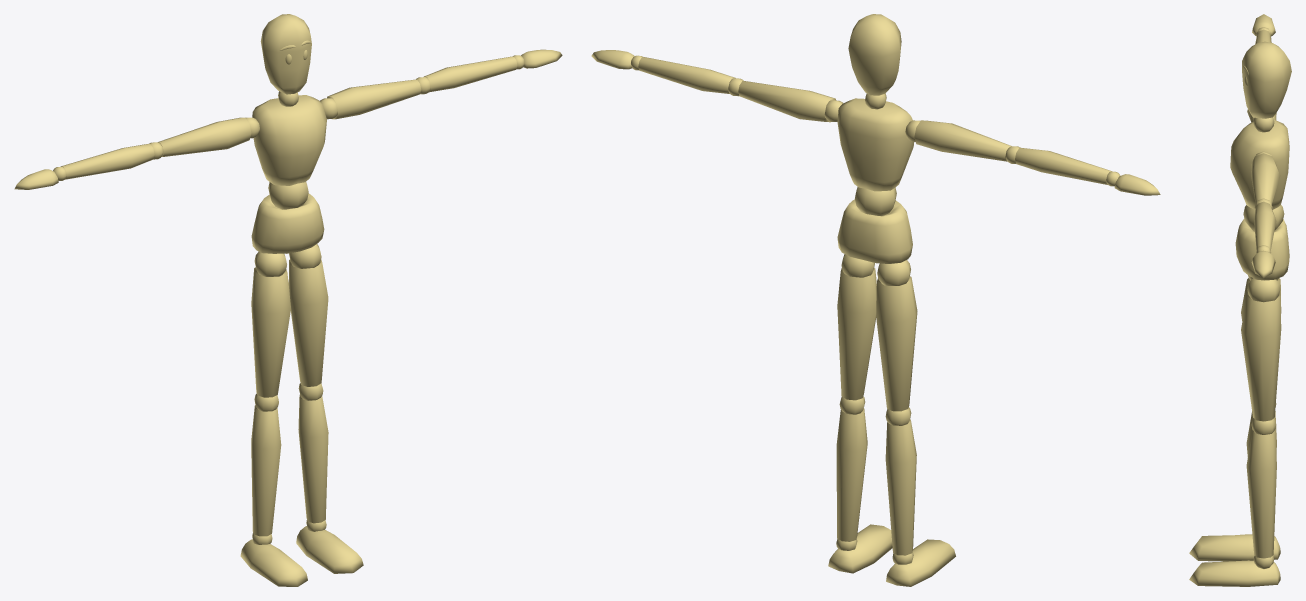
The model's file is MannaquinFace4Merged.dae.
3 renders of one model, left to right at view 1: azimuth 30°, elevation 25°; view 2: azimuth 150°, elevation 25°; view 3: azimuth 270°, elevation 25°, orthographic. The views are drawn at different scales.
Parts seen in each view (by area): view 1: Cylinder_003, Cylinder_002, Cylinder_001, Cylinder_006, Sphere_001, Cylinder, Cylinder_007, Cylinder_004, Cylinder_009, Sphere_014, Sphere, Cylinder_005 (+2 smaller); view 2: Cylinder_003, Cylinder_002, Cylinder_001, Cylinder_006, Cylinder, Sphere_001, Cylinder_007, Cylinder_004, Cylinder_009, Sphere, Sphere_014, Cylinder_005 (+3 smaller); view 3: Cylinder_006, Cylinder_003, Cylinder_007, Sphere_001, Cylinder_002, Sphere_014, Sphere, Cylinder_009, Cylinder_008, Sphere_016, Sphere_009, Cylinder_001 (+2 smaller).
Boxes of the visible parts, x1,y1,x2,y2 form: Cylinder_003: (245,91,337,185); Cylinder_002: (251,182,324,276); Cylinder_001: (251,267,290,411); Cylinder_006: (288,259,328,400); Sphere_001: (260,14,311,94); Cylinder: (251,405,281,536); Cylinder_007: (298,394,328,523); Cylinder_004: (149,117,251,159); Cylinder_009: (327,77,430,119); Sphere_014: (296,520,363,573); Sphere: (240,533,307,586); Cylinder_005: (60,144,154,179); Cylinder_003: (824,93,920,191); Cylinder_002: (837,187,912,285); Cylinder_001: (876,276,917,425); Cylinder_006: (837,268,876,414); Cylinder: (885,419,916,555); Sphere_001: (848,14,901,95); Cylinder_007: (836,408,867,541); Cylinder_004: (914,120,1020,163); Cylinder_009: (728,78,835,122); Sphere: (886,539,955,586); Sphere_014: (828,524,892,573); Cylinder_005: (1015,148,1112,184); Cylinder_006: (1241,294,1281,434); Cylinder_003: (1230,117,1289,209); Cylinder_007: (1246,430,1276,558); Sphere_001: (1242,41,1291,118); Cylinder_002: (1235,205,1289,302); Sphere_014: (1189,555,1280,586); Sphere: (1189,534,1280,561); Cylinder_009: (1251,153,1280,208); Cylinder_008: (1254,201,1276,250); Sphere_016: (1251,245,1275,278); Sphere_009: (1252,14,1275,36); Cylinder_001: (1241,278,1281,406).
Size of the model in its own units: 14.87 by 2.47 by 13.89.
